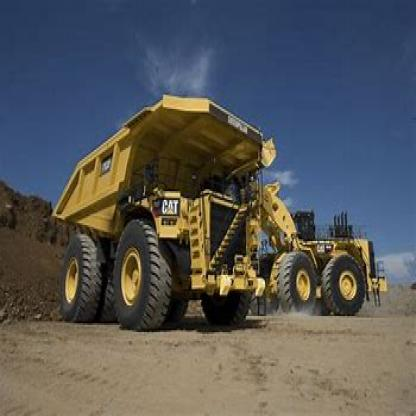bull_dozer/loader/grader: (270, 175, 391, 325)
dump_truck: (43, 90, 272, 328)
